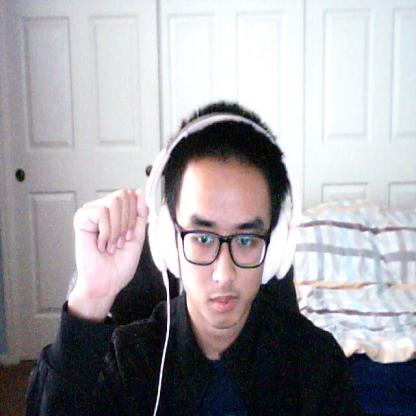fist: (70, 187, 151, 288)
